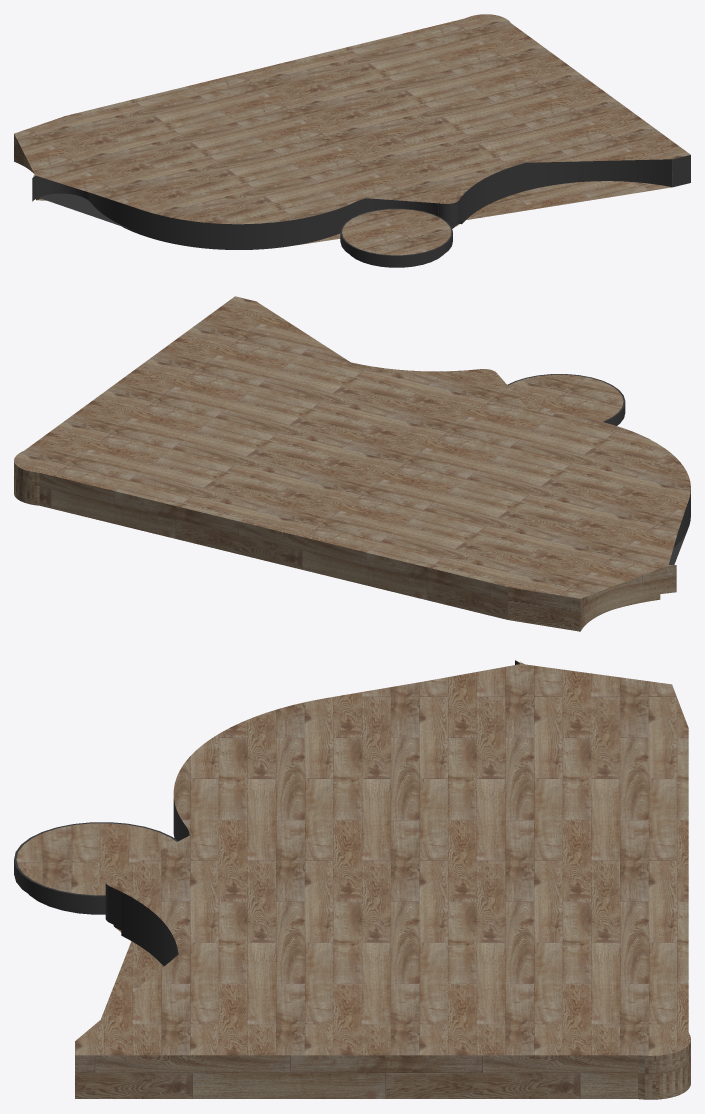
3 renders of one model, top to bottom at view 1: azimuth 30°, elevation 25°; view 2: azimuth 150°, elevation 25°; view 3: azimuth 270°, elevation 25°, orthographic. The views are drawn at different scales.
Visible parts, largest first — view 1: __kk_dwg1, Group1; view 2: __kk_dwg1, Group1; view 3: __kk_dwg1, Group1.
Boxes of the visible parts, x1=… form: __kk_dwg1: x1=14, y1=14, x2=690, y2=249; Group1: x1=340, y1=208, x2=452, y2=267; __kk_dwg1: x1=14, y1=296, x2=690, y2=631; Group1: x1=507, y1=374, x2=625, y2=425; __kk_dwg1: x1=75, y1=660, x2=690, y2=1099; Group1: x1=14, y1=822, x2=177, y2=914.
Bounding box in the file's own units: 5798 × 300 × 4193.
